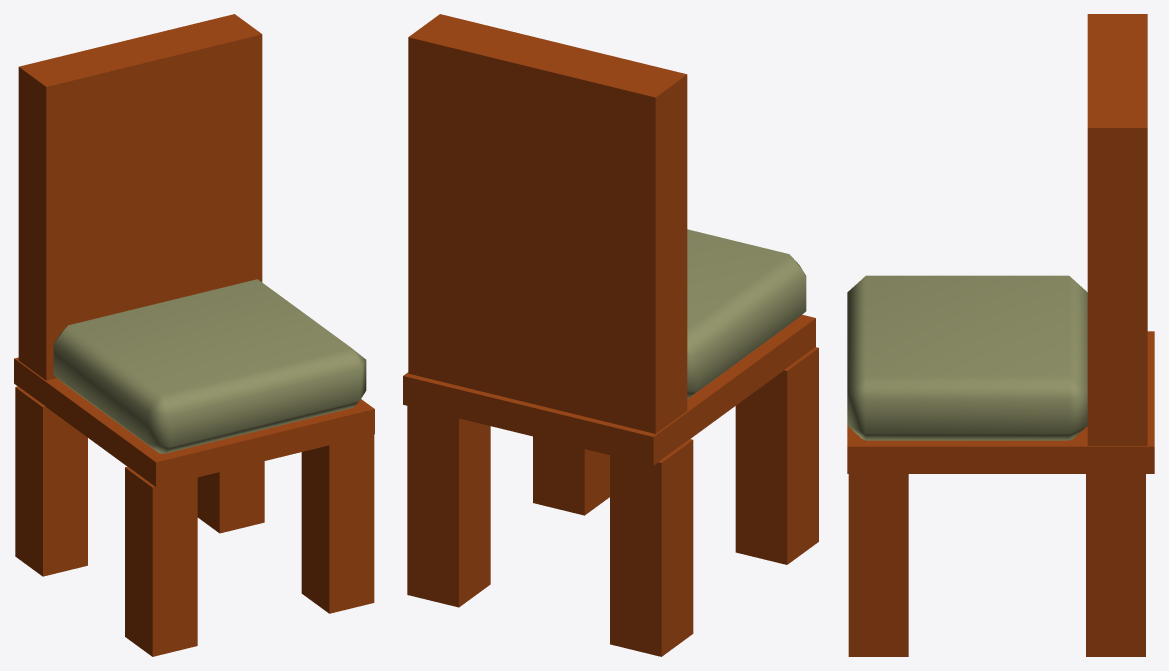
File: Chair.fbx
3 renders of one model, left to right at view 1: azimuth 30°, elevation 25°; view 2: azimuth 150°, elevation 25°; view 3: azimuth 270°, elevation 25°, orthographic. The views are drawn at different scales.
Parts seen in each view (by area): view 1: Chair; view 2: Chair; view 3: Chair.
Part boxes in pixels (x1,y1,x2,y2): Chair: [14, 14, 374, 656]; Chair: [403, 14, 818, 656]; Chair: [847, 14, 1154, 656].
Size of the model in its own units: 0.0132 by 0.0278 by 0.0147.
